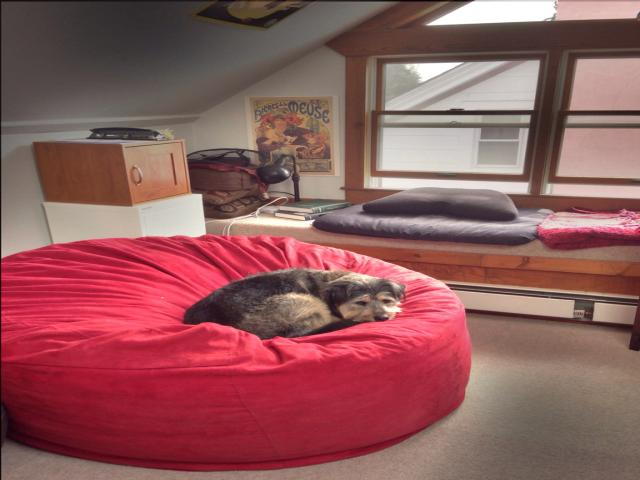Dog: (182, 268, 408, 342)
